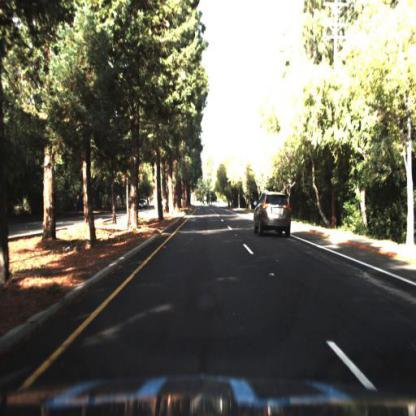car: (252, 191, 294, 241), (138, 197, 151, 213)
